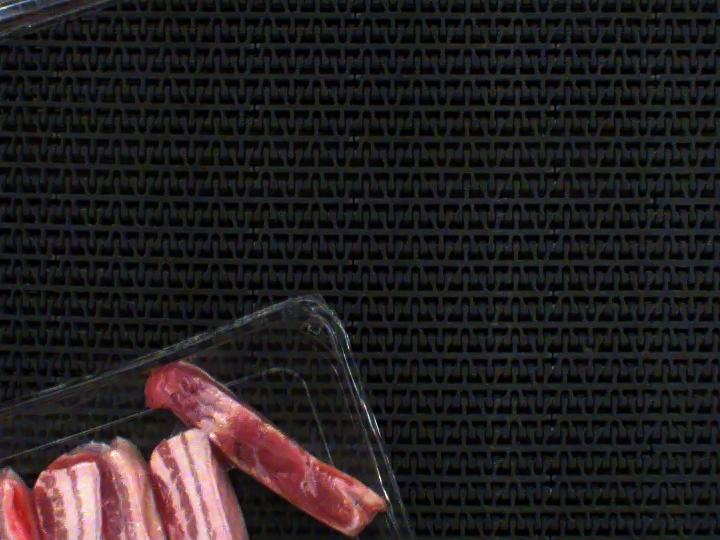loose-meat: (127, 342, 413, 540)
